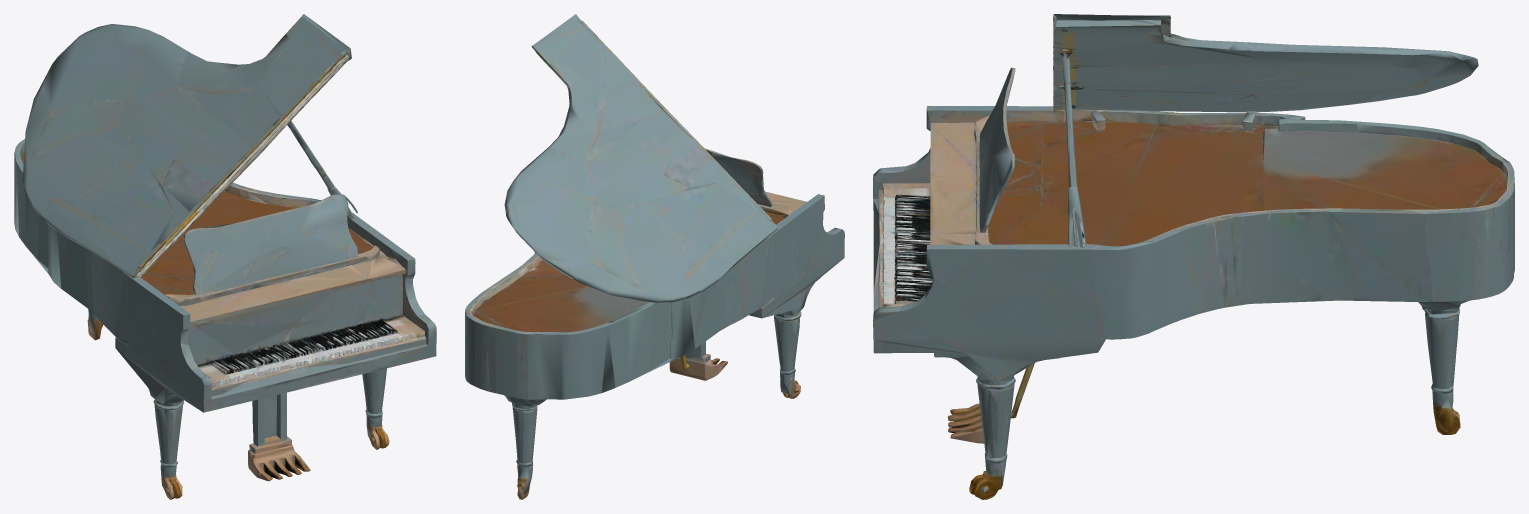
The model's file is mx_hh_piano.glb.
3 views of the same model, side by side, from view 1: azimuth 30°, elevation 25°; view 2: azimuth 150°, elevation 25°; view 3: azimuth 270°, elevation 25° (orthographic). The views are drawn at different scales.
Bounding box in the file's own units: 1.03 × 1.58 × 1.9.
1 material, 1 textured.
